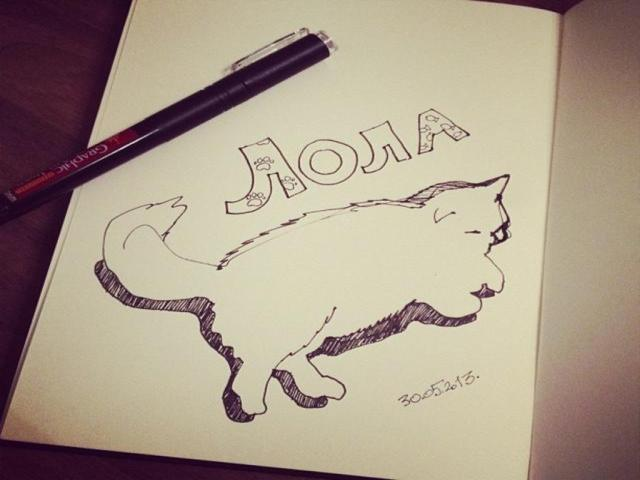PEN: (8, 25, 328, 214)
